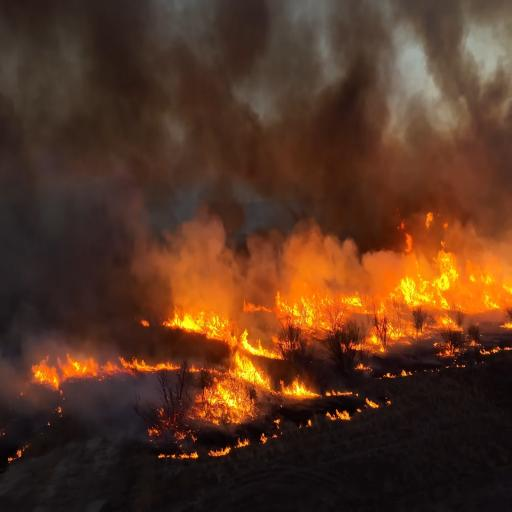fire: (231, 337, 278, 414), (32, 339, 94, 397), (400, 258, 457, 317), (162, 304, 227, 348), (263, 294, 315, 340)
smoke: (104, 9, 274, 280), (292, 0, 394, 277), (409, 5, 512, 242), (0, 0, 95, 172), (12, 182, 114, 320), (188, 0, 265, 176)
